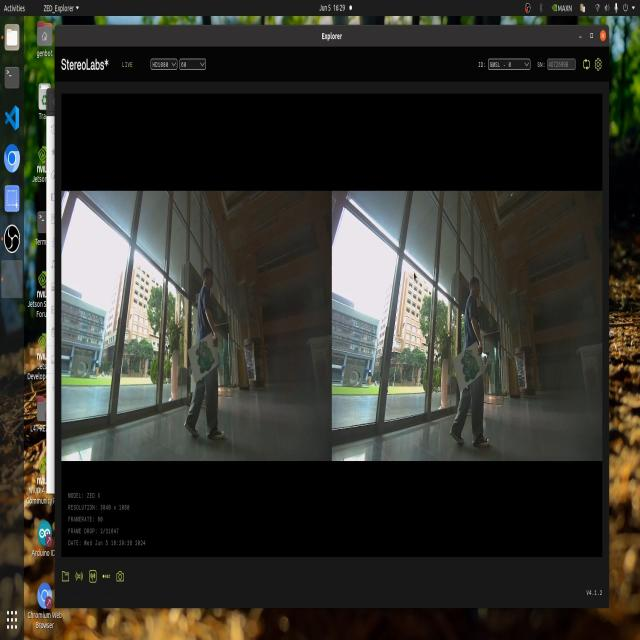green: (193, 331, 221, 368), (460, 348, 486, 381)
